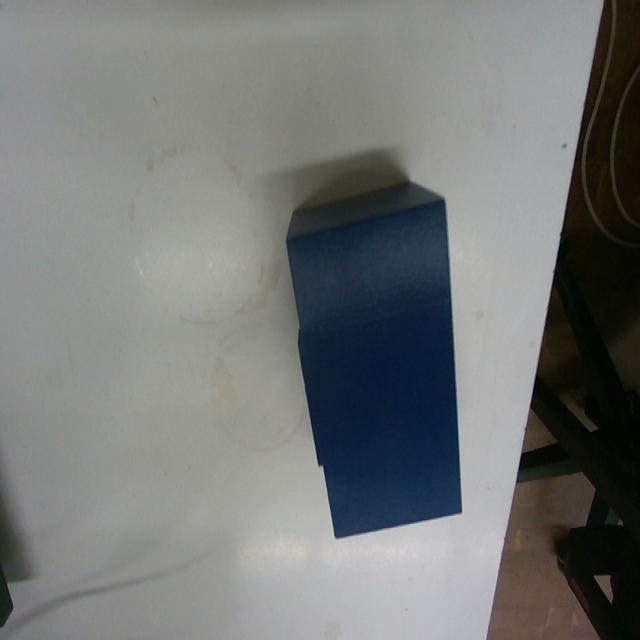Blue Cuboid: (283, 175, 465, 540)
